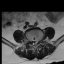CCS_severe_stenosis: (34, 39, 35, 47)
LFS_normal: (37, 36, 39, 43)
LLS_normal: (35, 38, 37, 46)
RFS_severe_stenosis: (30, 38, 32, 45)
RLS_normal: (32, 39, 34, 46)
